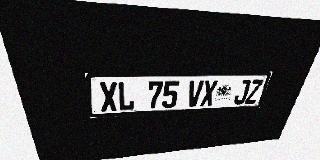5: (162, 81, 179, 108)
7: (147, 81, 164, 109)
J: (232, 79, 252, 104)
L: (117, 82, 134, 111)
V: (186, 80, 204, 107)
X: (99, 82, 118, 112), (200, 80, 218, 106)
Z: (244, 79, 264, 104)
